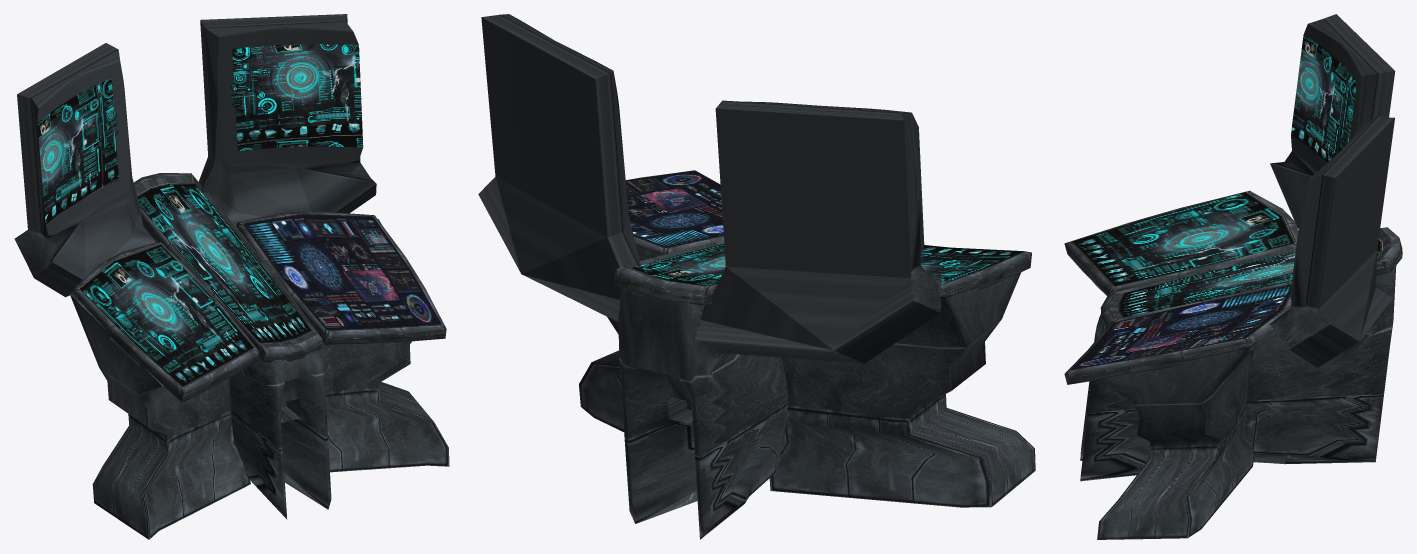
File: console.gltf
3 renders of one model, left to right at view 1: azimuth 30°, elevation 25°; view 2: azimuth 150°, elevation 25°; view 3: azimuth 270°, elevation 25°, orthographic. The views are drawn at different scales.
Visible parts, largest first — view 1: body, screen 5, screen 2, screen 3, screen 4, screen 1; view 2: body, screen 5, screen 4, screen 3; view 3: body, screen 3, screen 5, screen 1, screen 4.
Boxes of the visible parts, box(x1,y1,x2,y2) form: body: box(14, 14, 449, 539); screen 5: box(243, 214, 440, 330); screen 2: box(230, 44, 363, 150); screen 3: box(79, 243, 254, 387); screen 4: box(137, 183, 312, 343); screen 1: box(37, 78, 118, 224); body: box(478, 14, 1035, 539); screen 5: box(625, 170, 723, 247); screen 4: box(630, 243, 725, 286); screen 3: box(920, 245, 1024, 284); body: box(1064, 14, 1402, 539); screen 3: box(1071, 191, 1295, 286); screen 5: box(1071, 285, 1291, 369); screen 1: box(1291, 35, 1356, 162); screen 4: box(1118, 238, 1382, 317).
Size of the model in its own units: 59.68 by 61.77 by 50.23.
3 materials, 3 textured.
